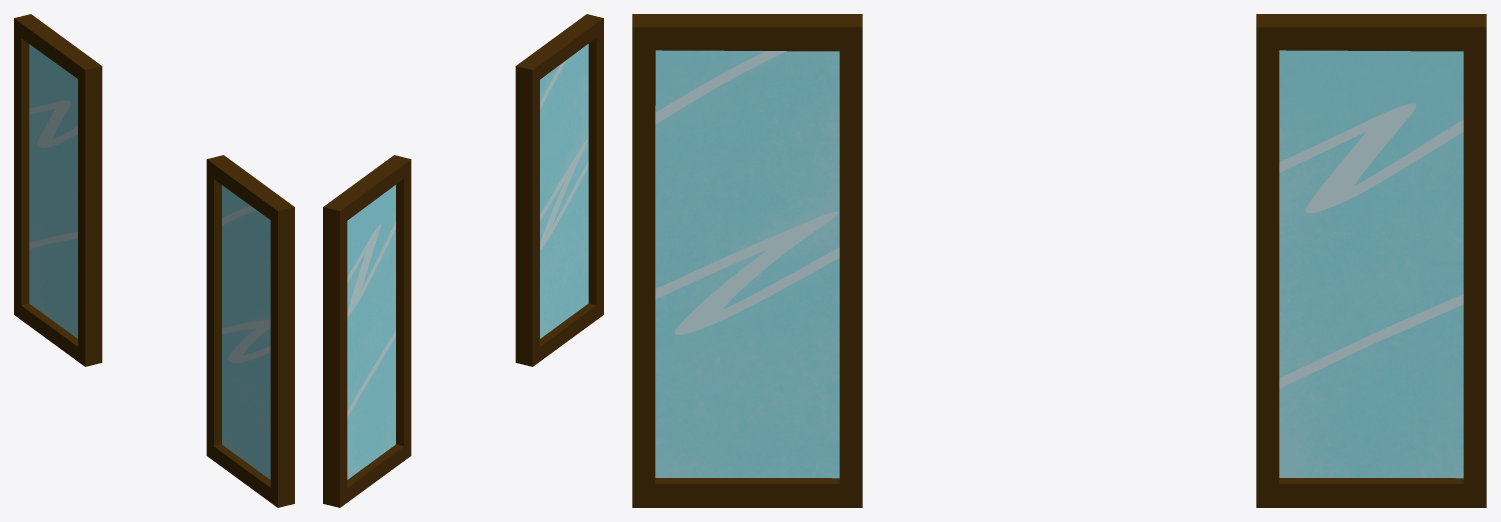
File: TerraceDoorframe.obj
3 views of the same model, side by side, from view 1: azimuth 30°, elevation 25°; view 2: azimuth 150°, elevation 25°; view 3: azimuth 270°, elevation 25° (orthographic). The views are drawn at different scales.
Parts seen in each view (by area): view 1: TerraceFrameDoors DoorFrame, DoorFrameGlass TerraceFrameDoors; view 2: TerraceFrameDoors DoorFrame, DoorFrameGlass TerraceFrameDoors; view 3: DoorFrameGlass TerraceFrameDoors, TerraceFrameDoors DoorFrame.
Boxes of the visible parts, bbox=[...] form: TerraceFrameDoors DoorFrame: bbox=[14, 14, 294, 507]; DoorFrameGlass TerraceFrameDoors: bbox=[29, 44, 270, 479]; TerraceFrameDoors DoorFrame: bbox=[323, 14, 603, 507]; DoorFrameGlass TerraceFrameDoors: bbox=[347, 44, 588, 479]; DoorFrameGlass TerraceFrameDoors: bbox=[655, 50, 1463, 478]; TerraceFrameDoors DoorFrame: bbox=[632, 14, 1486, 507].
Size of the model in its own units: 17.75 by 297 by 478.
